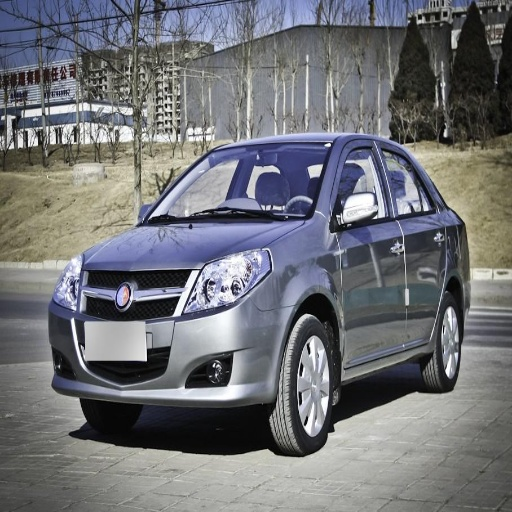front_bumper: (50, 259, 293, 407)
front_glass: (140, 145, 333, 225)
front_left_door: (333, 140, 404, 366)
